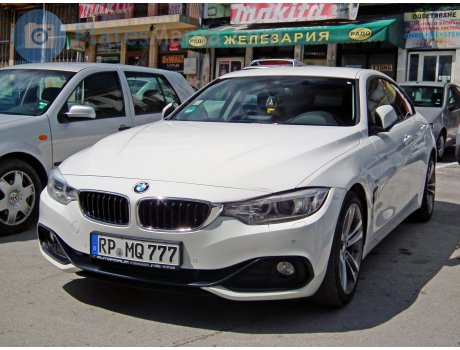License Plates: (98, 235, 179, 263)
